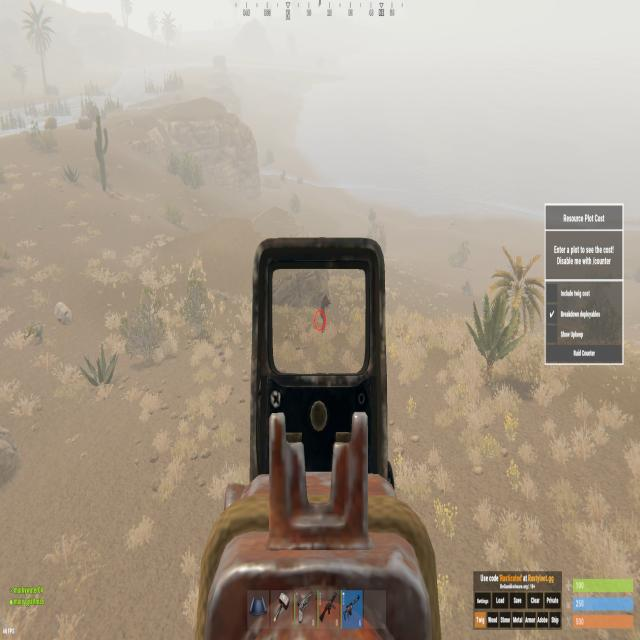Player: (319, 294, 332, 336)
